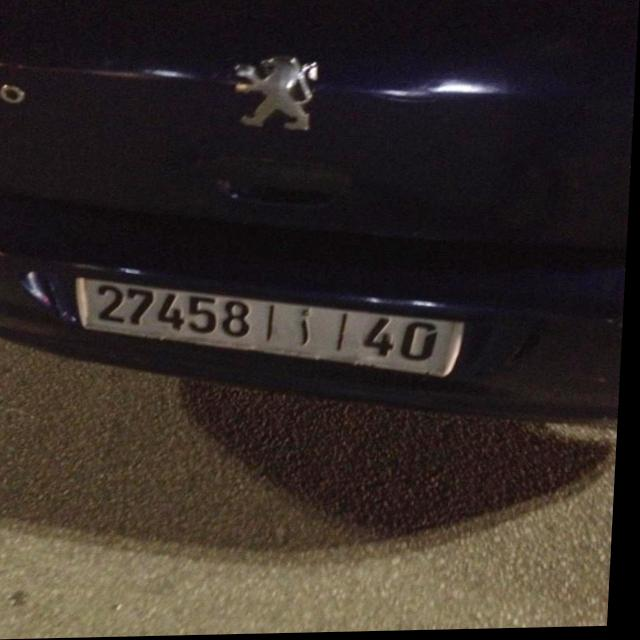License-Plate: (79, 278, 468, 378)
